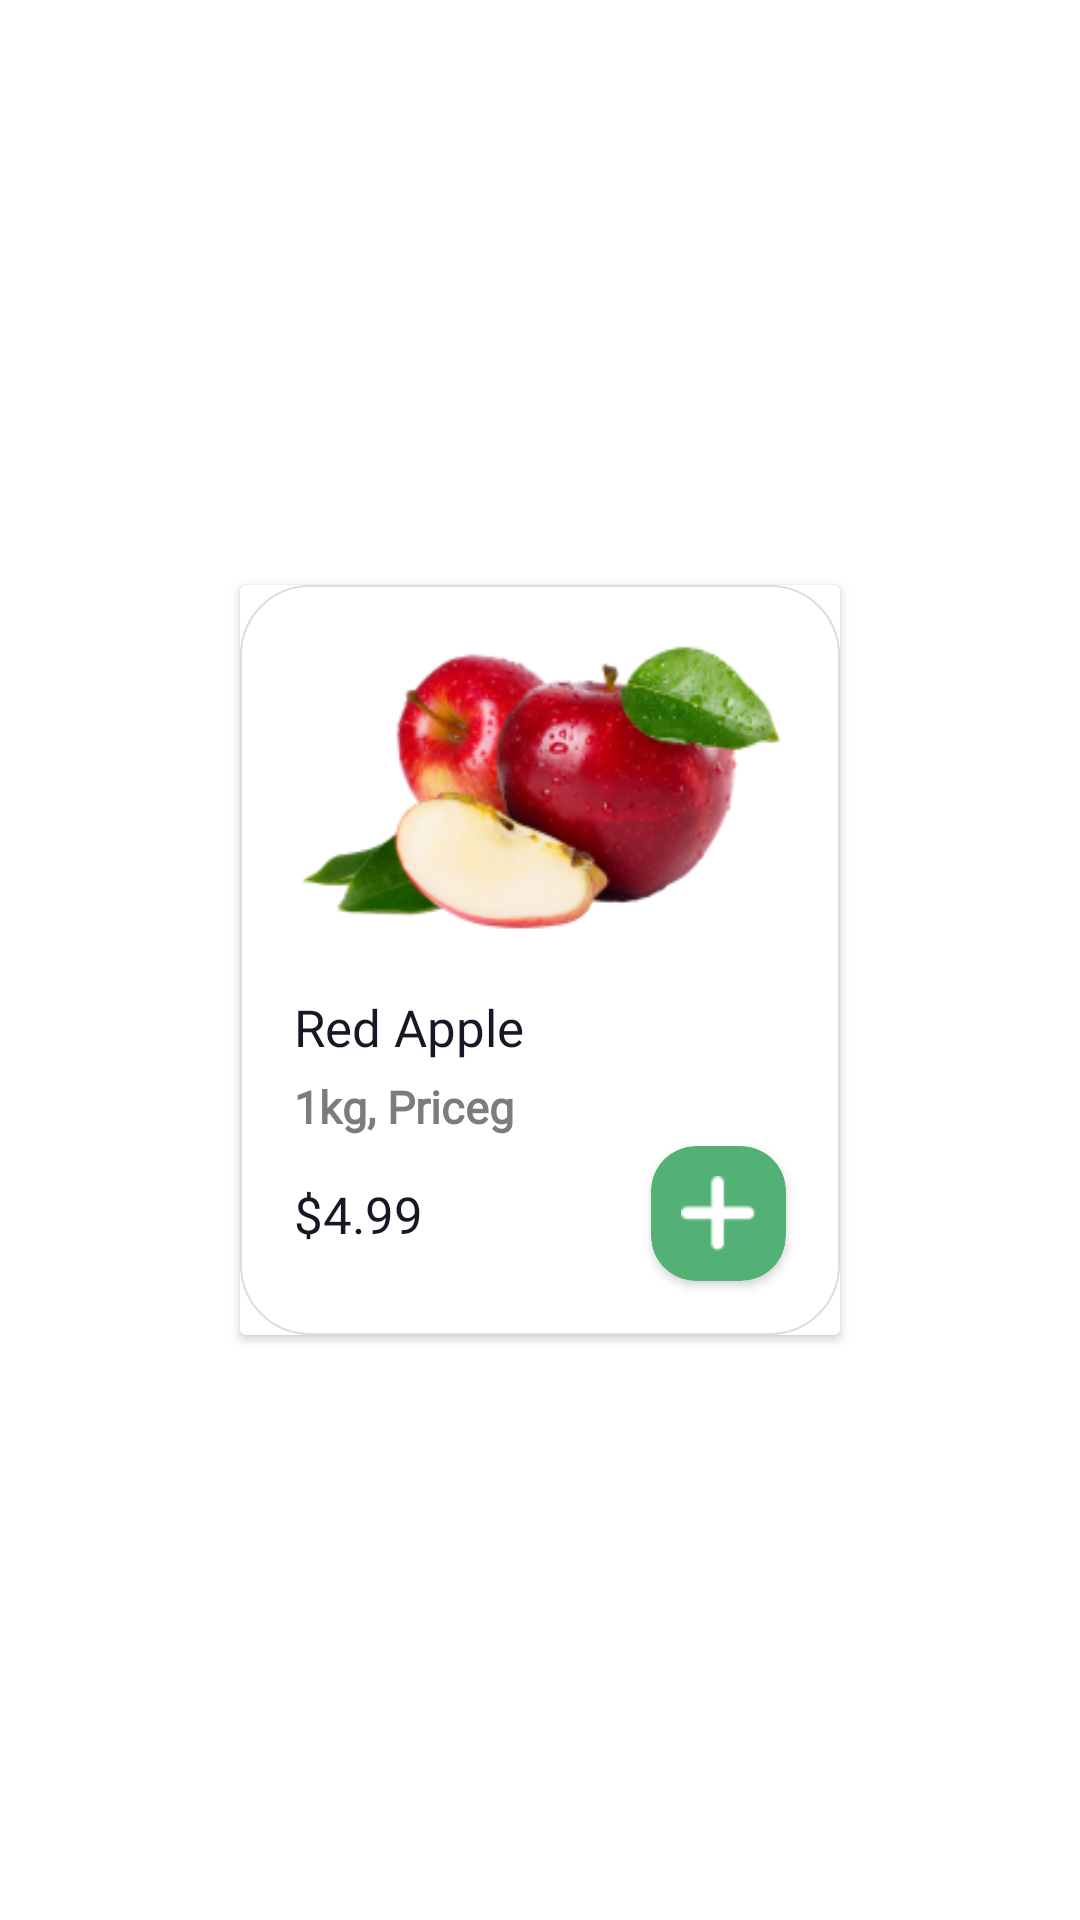

Icons on this 1080w x 1920h Android screen, each with its box as bbox(x1, y1, x2, y2):
plus: bbox(681, 1176, 755, 1251)
